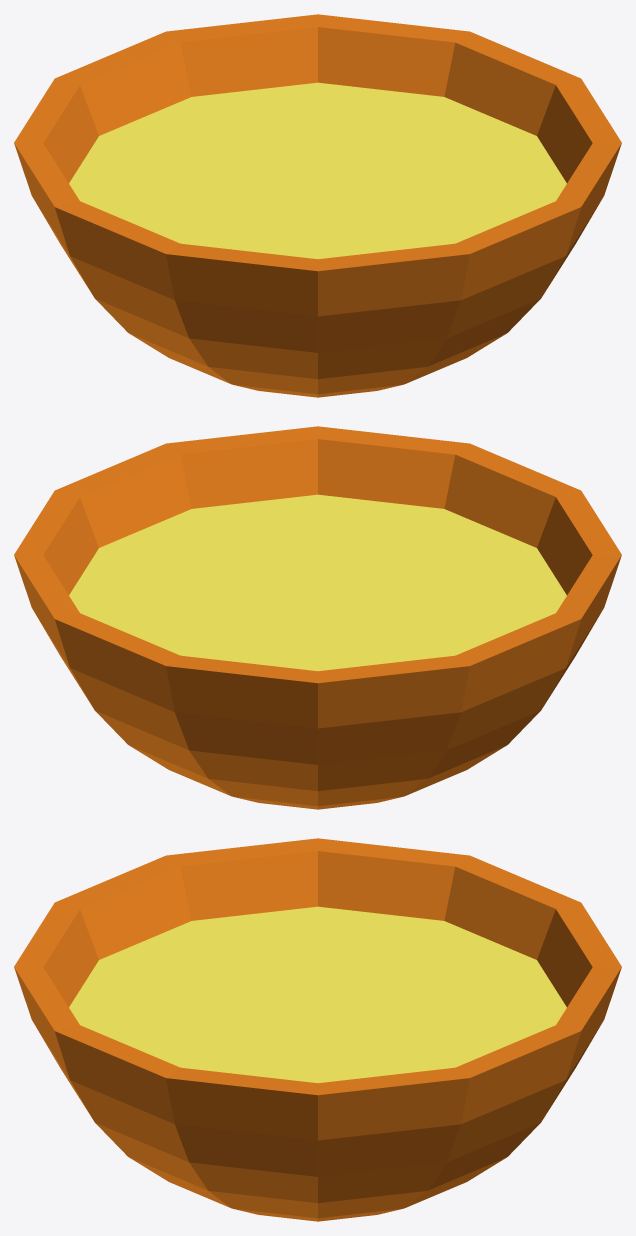
The model's file is Soap_Plate_04.fbx.
3 renders of one model, top to bottom at view 1: azimuth 30°, elevation 25°; view 2: azimuth 150°, elevation 25°; view 3: azimuth 270°, elevation 25°, orthographic.
Parts seen in each view (by area): view 1: Soap_Plate_04_LOD0; view 2: Soap_Plate_04_LOD0; view 3: Soap_Plate_04_LOD0.
Boxes of the visible parts, x1,y1,x2,y2 form: Soap_Plate_04_LOD0: [14, 14, 621, 397]; Soap_Plate_04_LOD0: [14, 426, 621, 809]; Soap_Plate_04_LOD0: [14, 838, 621, 1221].
Size of what is drawn, in the model's own units: 0.2799 by 0.1149 by 0.2799.
